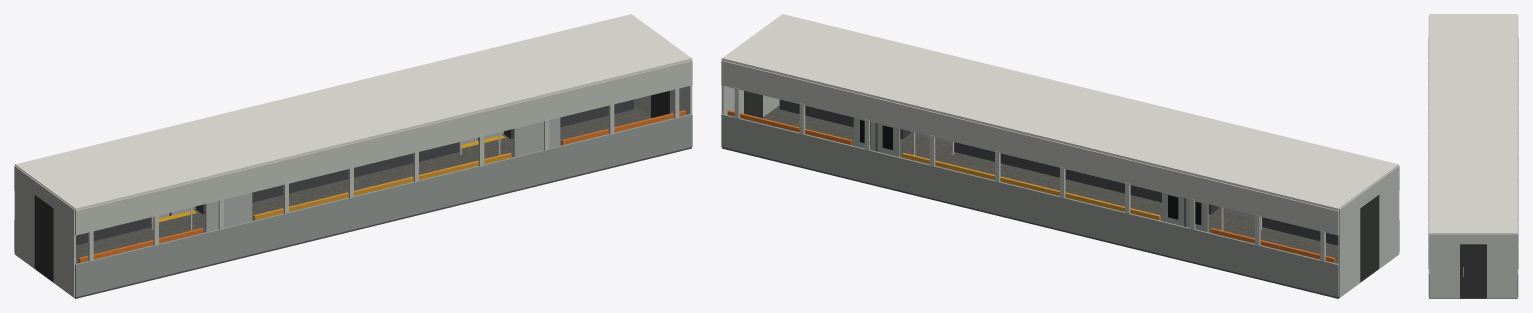
The model's file is car_B_interior.glb.
3 views of the same model, side by side, from view 1: azimuth 30°, elevation 25°; view 2: azimuth 150°, elevation 25°; view 3: azimuth 270°, elevation 25° (orthographic). The views are drawn at different scales.
Visible parts, largest first — view 1: Shell_Ceiling, Shell_Wall, Shell_LowerWall, Shell_Floor, Shell_SeatBase, Shell_Door, Shell_GangwayFrame, Shell_SeatYellow, Shell_SeatOrange; view 2: Shell_Ceiling, Shell_Wall, Shell_LowerWall, Shell_Floor, Shell_SeatBase, Shell_GangwayFrame, Shell_SeatYellow, Shell_SeatOrange, DoorLeaf_E42_2_Door, DoorLeaf_W42_1_Door; view 3: Shell_Ceiling, Shell_Wall, Shell_GangwayFrame, Shell_LowerWall, Shell_Floor.
Part boxes in pixels (x1,y1,x2,y2): Shell_Ceiling: (15,14,691,210); Shell_Wall: (14,59,692,297); Shell_LowerWall: (14,114,692,297); Shell_Floor: (35,105,691,298); Shell_SeatBase: (76,99,634,245); Shell_Door: (205,117,560,232); Shell_GangwayFrame: (34,91,669,281); Shell_SeatYellow: (253,153,511,220); Shell_SeatOrange: (78,110,686,262); Shell_Ceiling: (722,14,1398,210); Shell_Wall: (721,59,1399,297); Shell_LowerWall: (721,114,1399,297); Shell_Floor: (722,105,1378,298); Shell_SeatBase: (779,99,1337,245); Shell_GangwayFrame: (744,91,1379,281); Shell_SeatYellow: (902,153,1160,220); Shell_SeatOrange: (727,110,1335,262); DoorLeaf_E42_2_Door: (877,123,900,156); DoorLeaf_W42_1_Door: (1162,193,1184,226); Shell_Ceiling: (1429,14,1517,234); Shell_Wall: (1428,16,1518,298); Shell_GangwayFrame: (1460,244,1486,297); Shell_LowerWall: (1428,269,1518,297); Shell_Floor: (1429,297,1517,298).
Size of the model in its own units: 18.09 by 2.52 by 3.14.
44 materials, 13 textured.
